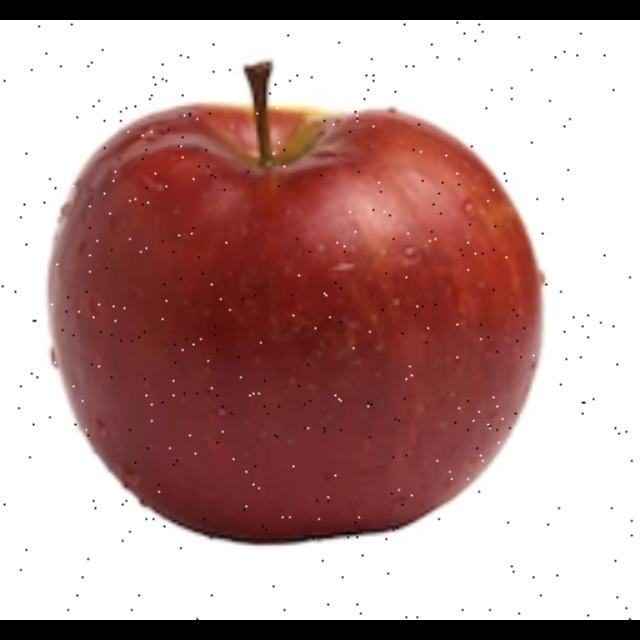Apel Segar: (47, 91, 547, 551)
